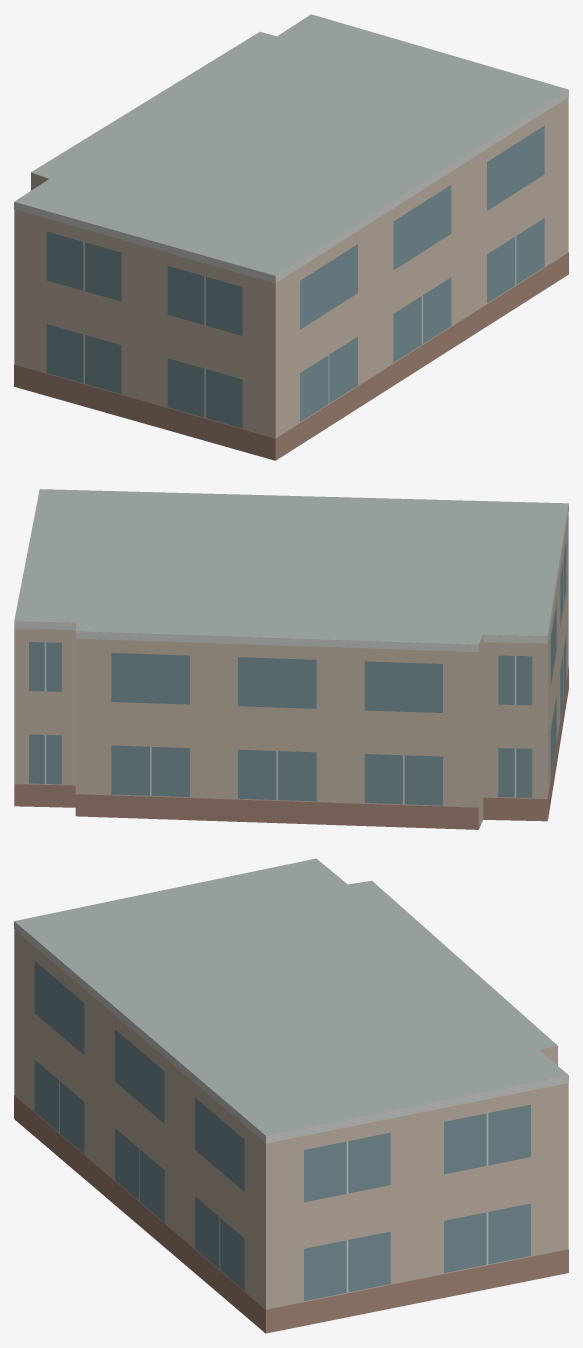
Rendered from survey-upis-32758475.glb.
The picture shows the model from 3 angles, top to bottom: view 1: azimuth 30°, elevation 25°; view 2: azimuth 150°, elevation 25°; view 3: azimuth 270°, elevation 25°; orthographic projection. The views are drawn at different scales.
Parts seen in each view (by area): view 1: survey-upis-32758475.tmp; view 2: survey-upis-32758475.tmp; view 3: survey-upis-32758475.tmp.
Part boxes in pixels (x1,y1,x2,y2): survey-upis-32758475.tmp: (14, 14, 568, 460); survey-upis-32758475.tmp: (14, 489, 568, 829); survey-upis-32758475.tmp: (14, 858, 568, 1333).
Size of the model in its own units: 18.35 by 6.1 by 15.51.
